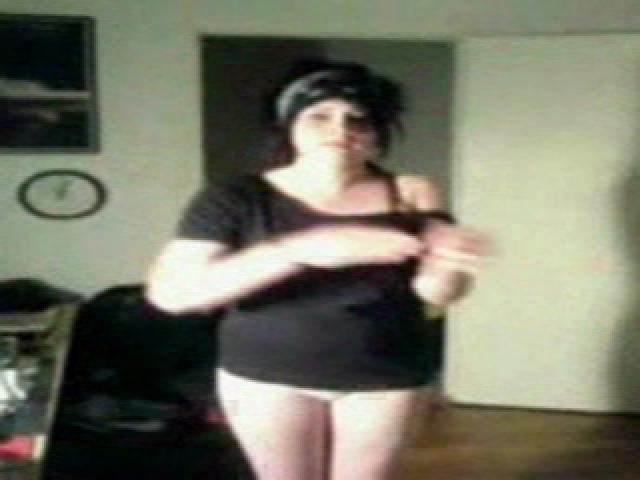F: (158, 57, 487, 479)
